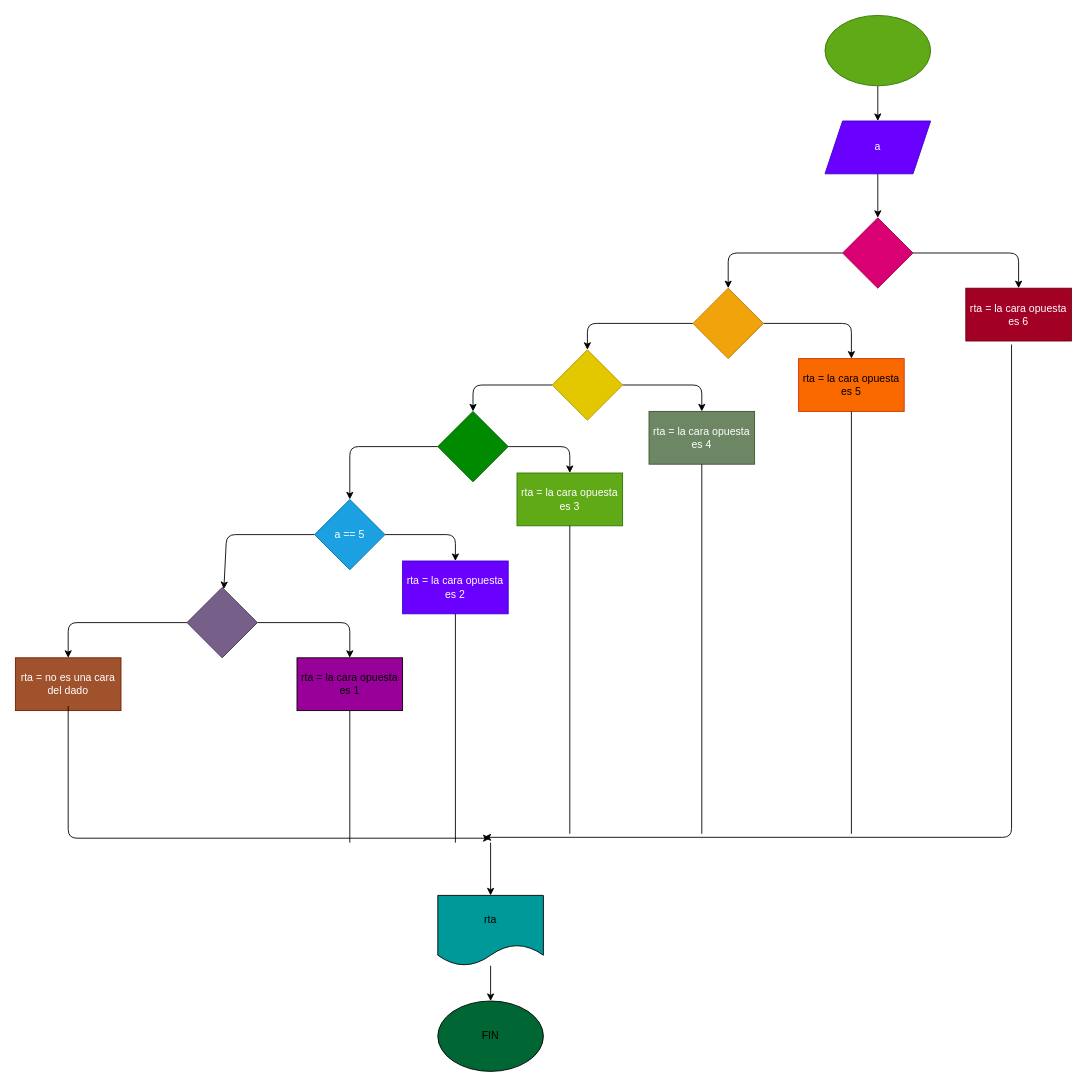
Image size: 1087x1087. Some labels were removed from this diagram. The shapes that lost their labels are listed below. From the top down, each one's box as (x1, y1, x2, y2) in pixels, then its label:
(824, 15, 931, 86): INICIO
(842, 217, 913, 288): a == 1
(692, 287, 763, 359): a == 2
(551, 349, 623, 420): a == 3
(437, 411, 508, 482): a == 4
(186, 587, 257, 658): a == 6
